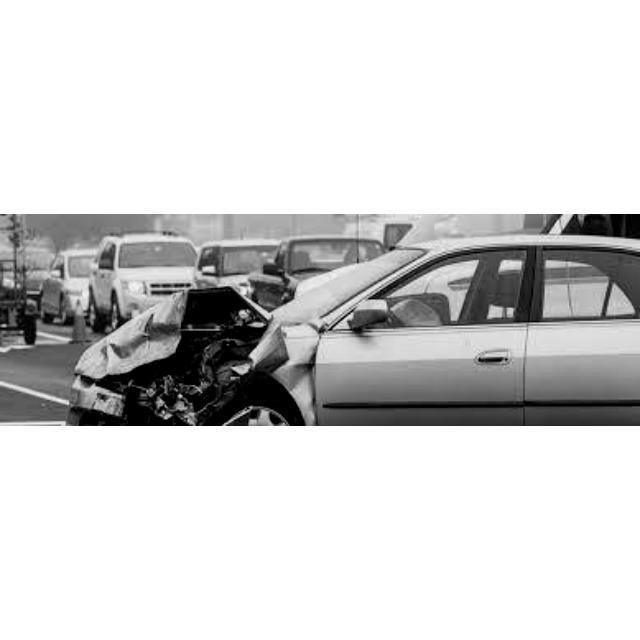bonnet-dent: (104, 282, 283, 349)
fender-dent: (251, 333, 320, 418)
